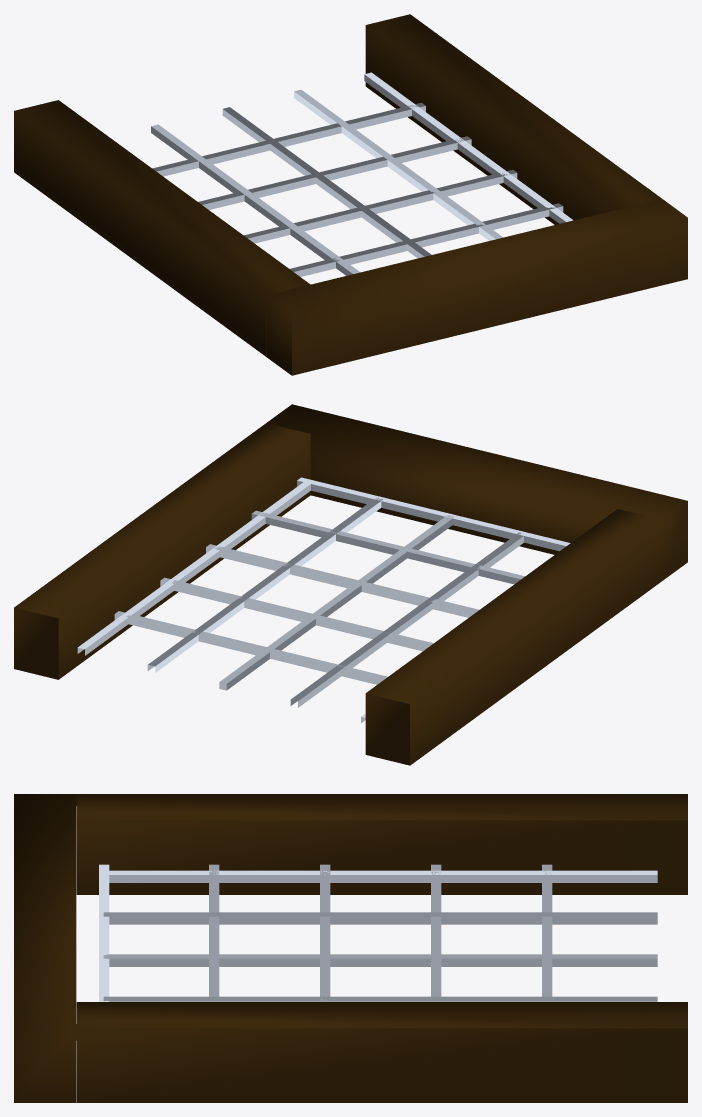
File: wang_2.FBX
3 renders of one model, top to bottom at view 1: azimuth 30°, elevation 25°; view 2: azimuth 150°, elevation 25°; view 3: azimuth 270°, elevation 25°, orthographic. The views are drawn at different scales.
Visible parts, largest first — view 1: wang_1; view 2: wang_1; view 3: wang_1.
Part boxes in pixels (x1,y1,x2,y2): wang_1: (14,14,687,375); wang_1: (14,404,687,765); wang_1: (14,794,687,1102).
Size of the model in its own units: 7.7 by 1.14 by 9.36.
